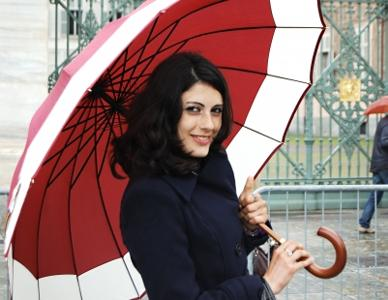person: (115, 51, 316, 300)
